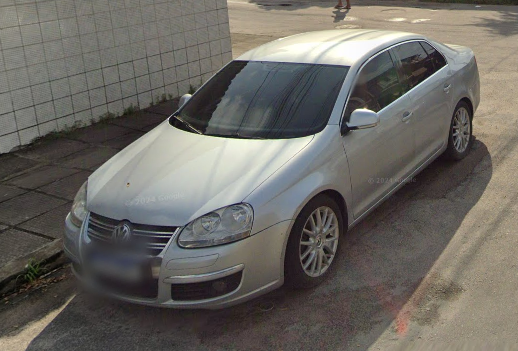car: (62, 28, 479, 309)
